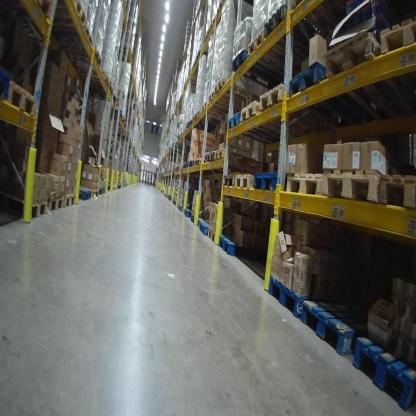pallet: (324, 33, 411, 117), (266, 265, 355, 326), (286, 61, 369, 122), (352, 332, 415, 412), (299, 301, 384, 359), (378, 14, 416, 107), (257, 83, 319, 131), (264, 4, 322, 54), (244, 30, 297, 77), (321, 171, 380, 207), (240, 98, 293, 138), (226, 111, 283, 148), (231, 48, 280, 86), (375, 168, 415, 212), (1, 186, 48, 220), (217, 234, 268, 261), (6, 77, 38, 118), (281, 171, 322, 200), (214, 146, 261, 171), (57, 44, 105, 67), (48, 26, 94, 50), (214, 78, 256, 102), (1, 2, 54, 21), (51, 1, 90, 26), (207, 92, 240, 113), (253, 173, 280, 198), (77, 64, 109, 85), (234, 168, 256, 196), (79, 79, 115, 95), (192, 110, 220, 129), (201, 101, 232, 118), (1, 67, 13, 108), (94, 90, 118, 103), (48, 193, 65, 211), (220, 172, 236, 191), (75, 184, 92, 201), (64, 190, 79, 206), (198, 220, 209, 239), (205, 230, 218, 246), (216, 1, 227, 16), (206, 147, 216, 163), (196, 156, 204, 169), (90, 188, 99, 199), (96, 184, 103, 197), (189, 214, 196, 225), (101, 185, 106, 196), (191, 158, 196, 168), (188, 159, 193, 169)
